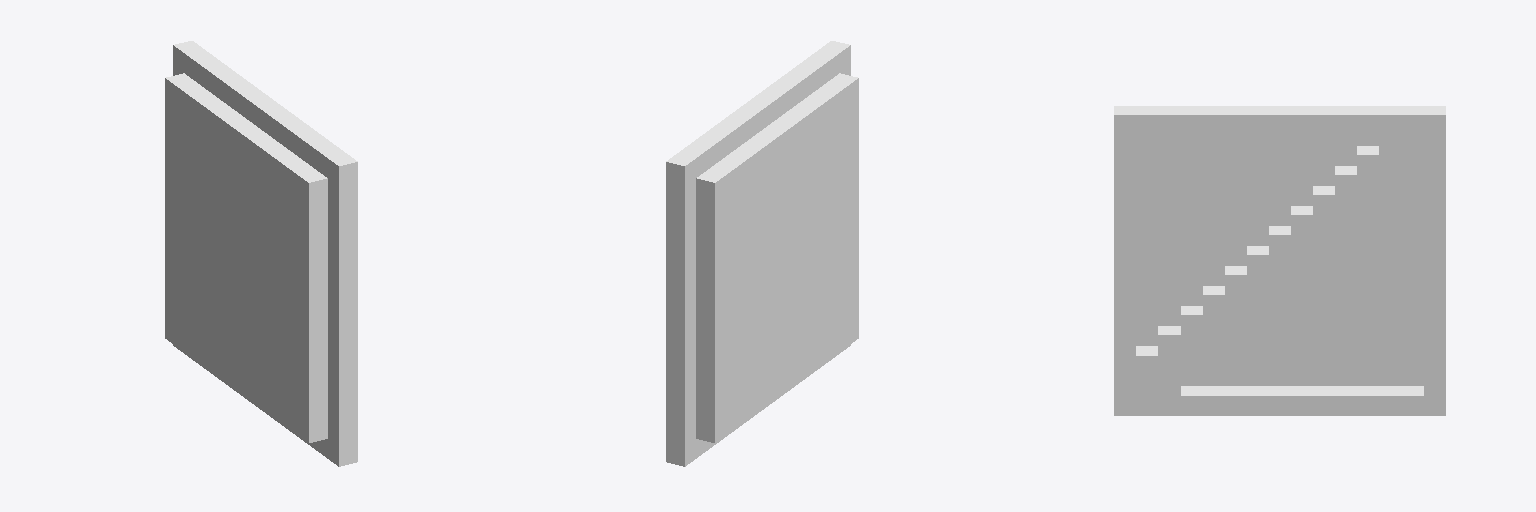
Rendered from Tampa Caixote.obj.
3 views of the same model, side by side, from view 1: azimuth 30°, elevation 25°; view 2: azimuth 150°, elevation 25°; view 3: azimuth 270°, elevation 25° (orthographic).
Visible parts, largest first — view 1: object 1; view 2: object 1; view 3: object 1.
Boxes of the visible parts, x1,y1,x2,y2 form: object 1: [165, 41, 357, 466]; object 1: [666, 41, 858, 466]; object 1: [1114, 106, 1445, 415].
Size of the model in its own units: 0.2 by 1.5 by 1.5.